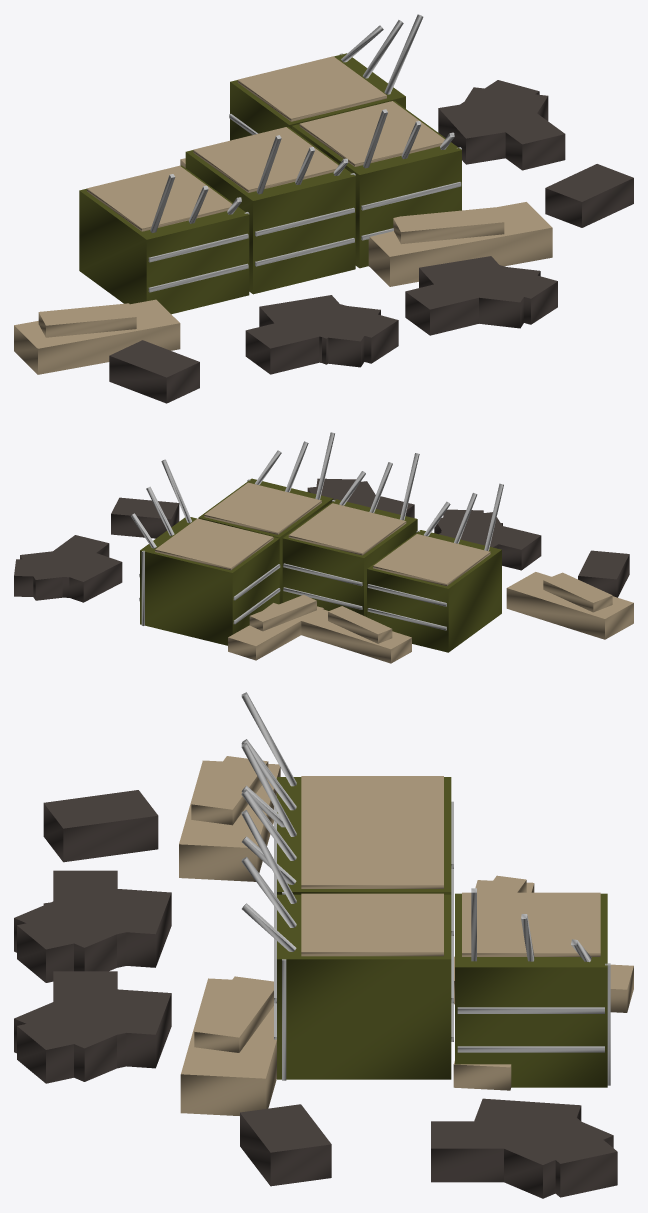
File: SM_HescoRemateEspejo_v1_Geotextil_e2_MuyDanado_LOD0.fbx
3 views of the same model, one above another, from view 1: azimuth 30°, elevation 25°; view 2: azimuth 150°, elevation 25°; view 3: azimuth 270°, elevation 25° (orthographic). The views are drawn at different scales.
Parts seen in each view (by area): view 1: SM_hesco_piezas_v26_LOD0; view 2: SM_hesco_piezas_v26_LOD0; view 3: SM_hesco_piezas_v26_LOD0.
Part boxes in pixels (x1,y1,x2,y2): SM_hesco_piezas_v26_LOD0: (14, 14, 633, 403); SM_hesco_piezas_v26_LOD0: (14, 432, 633, 663); SM_hesco_piezas_v26_LOD0: (14, 692, 633, 1198).
Size of the model in its own units: 6.71 by 1.64 by 4.34.
